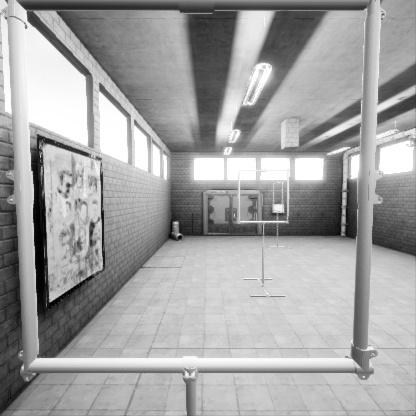gate: (40, 81, 376, 406), (239, 195, 292, 247), (273, 204, 283, 235)
